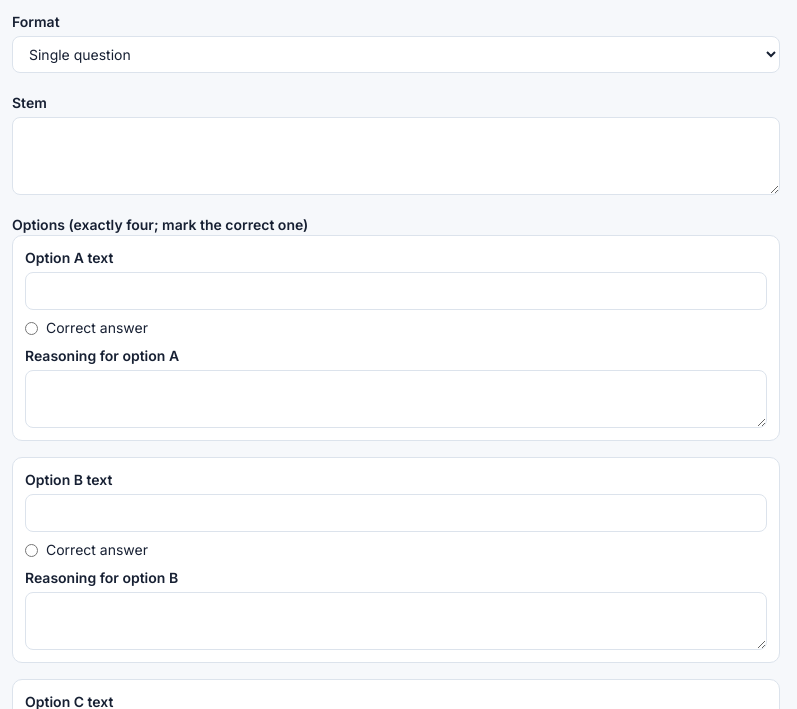
QuestionForm validation › adds and removes statements only for the statements format
Check: the field labelled "Statement 1" is not shown
Select "Statements" in the dropdown labelled "Format". click: [396, 54]
box: [12, 36, 780, 73]
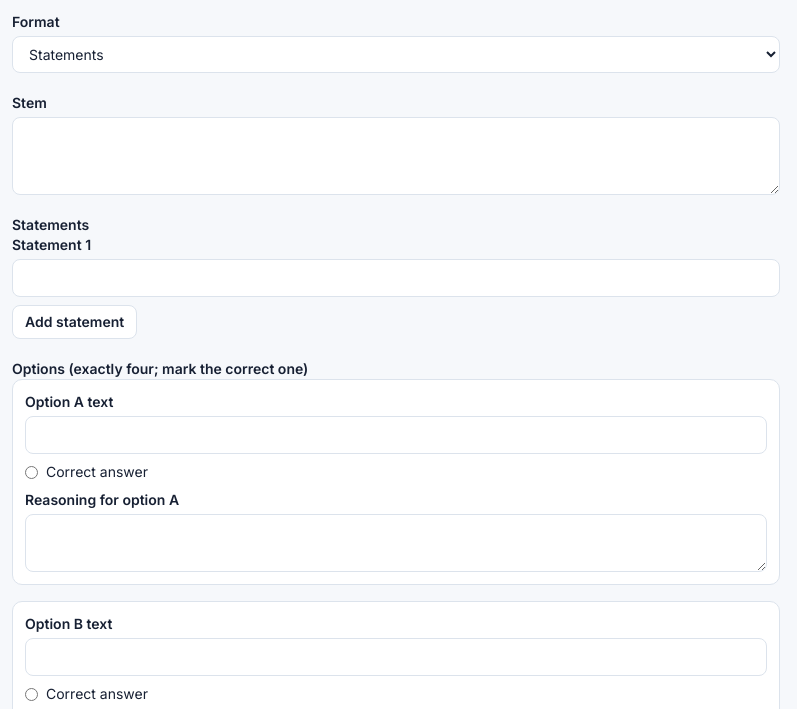
Click the button "Add statement". click: [75, 322]
box: [12, 305, 137, 339]
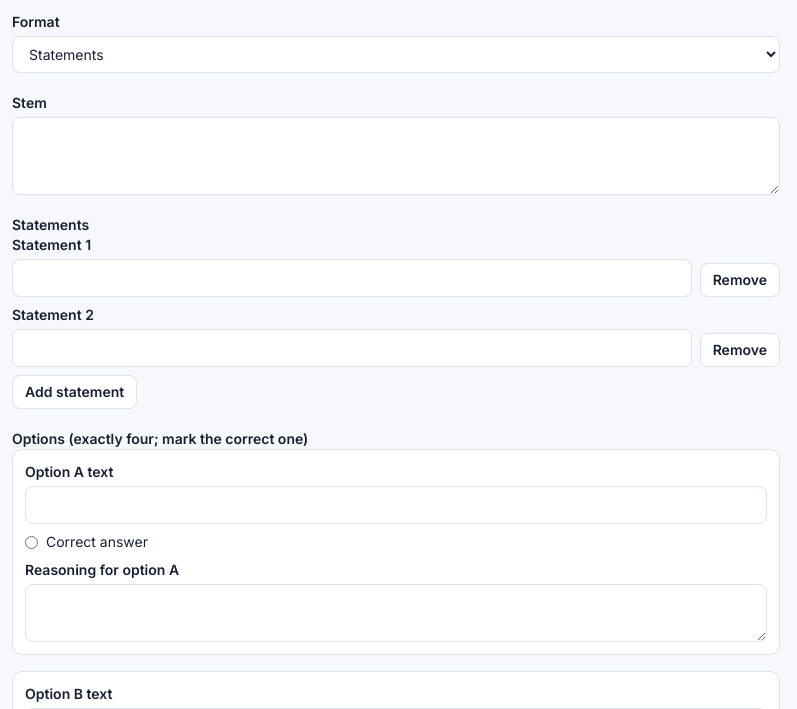
Check: the field labelled "Statement 2" is shown, box [12, 329, 692, 367]
Click the button with aria-label "Remove statement 2". click: [740, 350]
box: [700, 333, 780, 367]
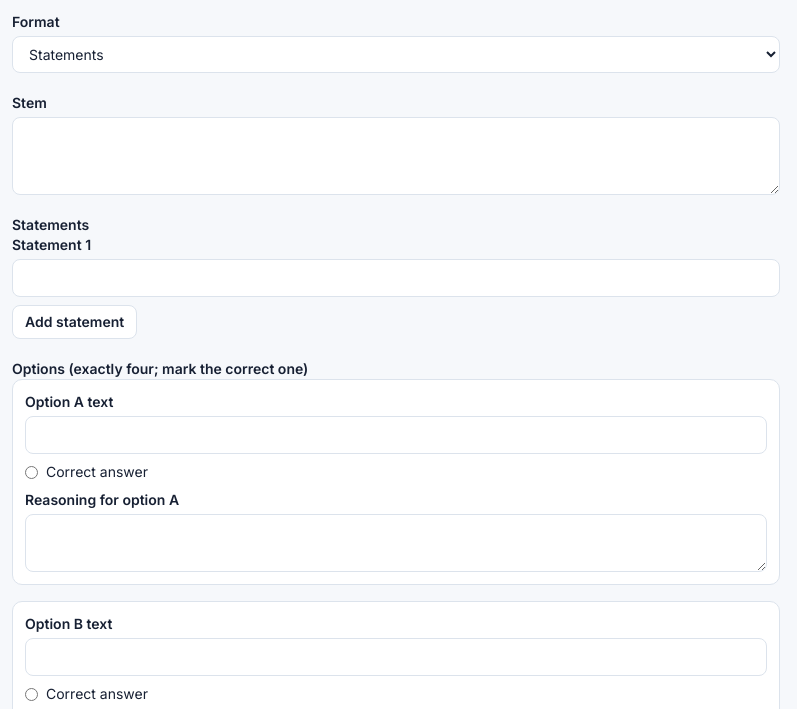
Check: the label labelled "Statement 2" is gone
